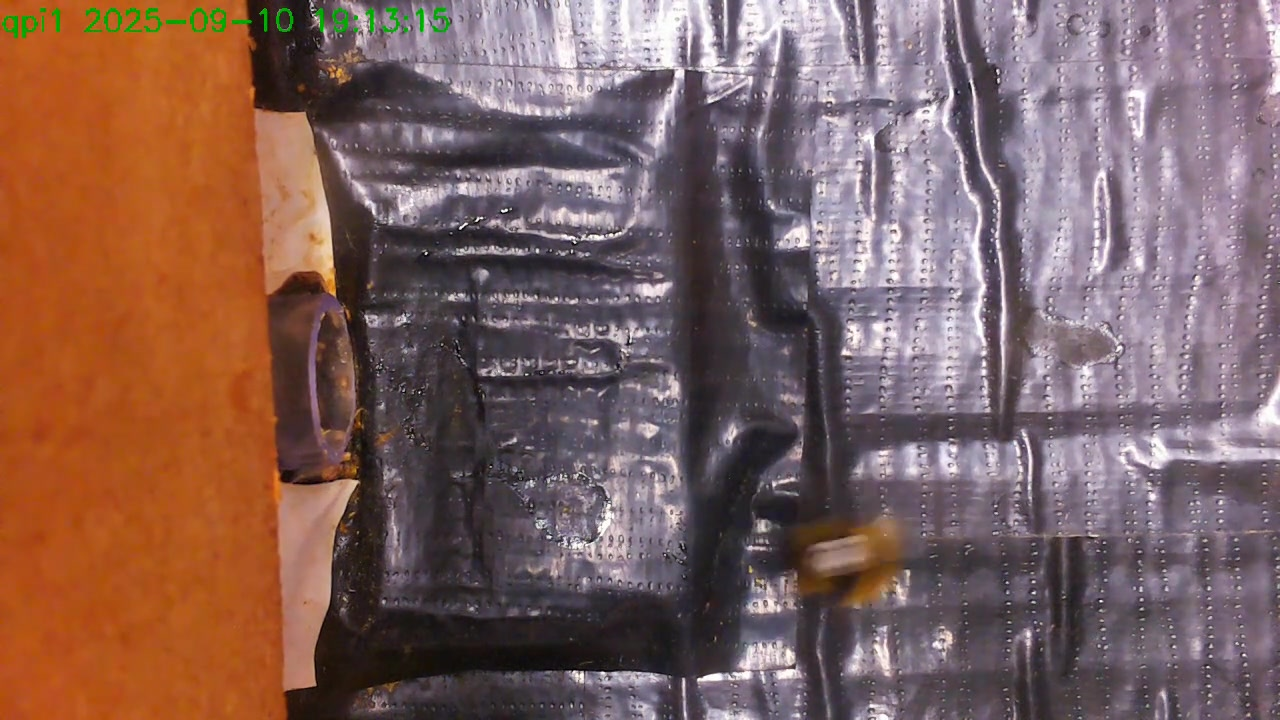bee: (751, 496, 921, 623)
